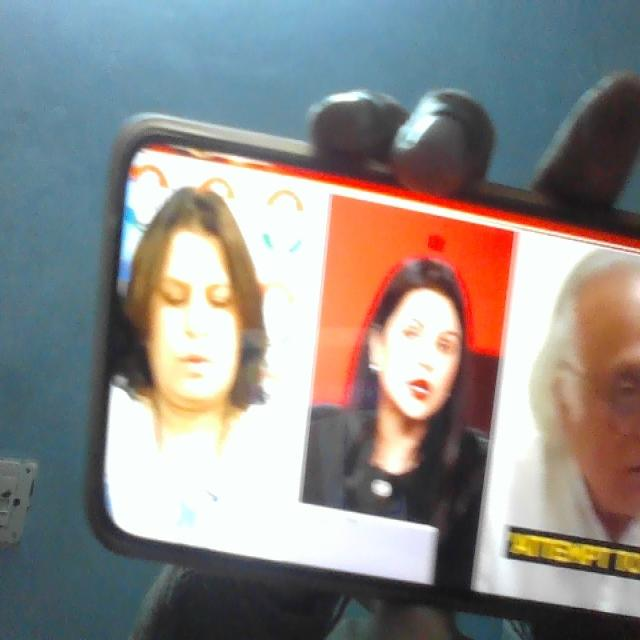fake: (124, 166, 262, 426), (356, 219, 492, 476)
